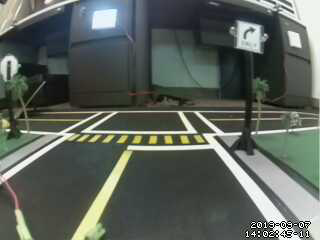Right_only_sign: (238, 18, 264, 55)
